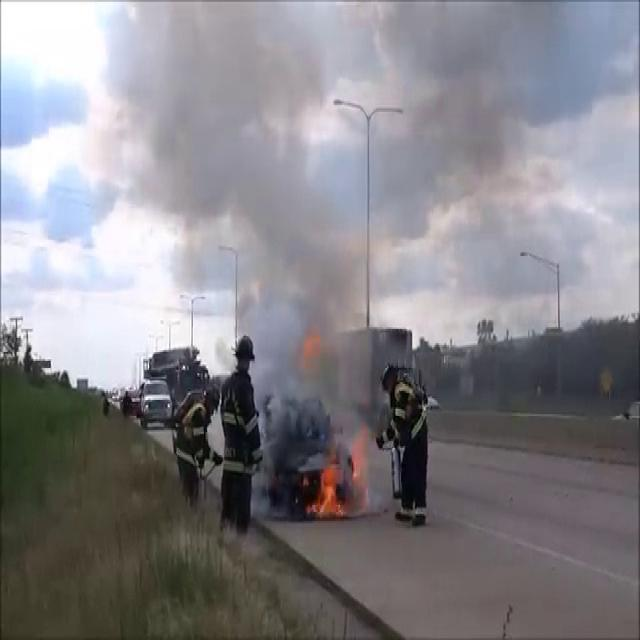Fire: (312, 447, 346, 524)
Smoke: (98, 1, 384, 387)
